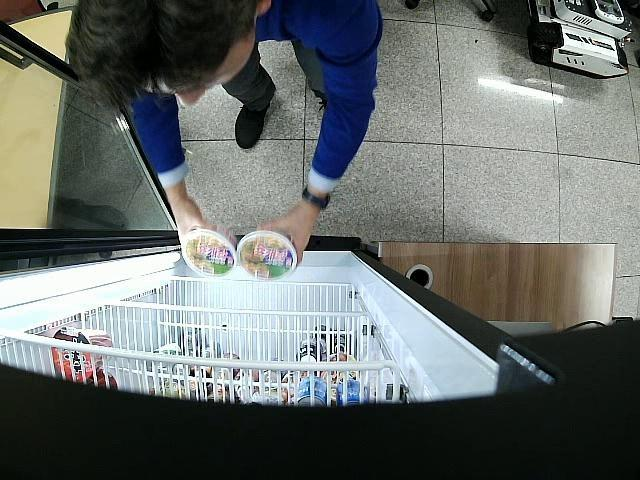09_yukGaeJang: (238, 228, 296, 280), (182, 226, 236, 275)
